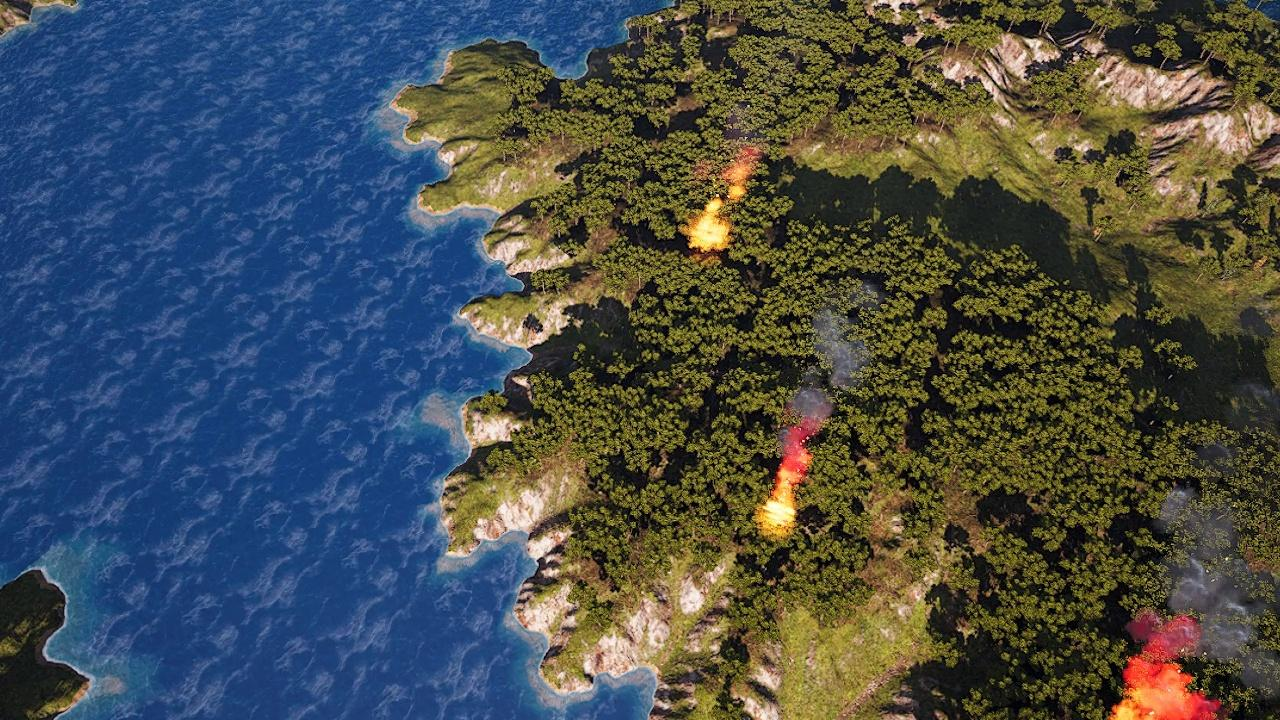fire: (761, 463, 802, 527), (689, 207, 730, 251), (722, 149, 752, 201)
smoke: (1108, 376, 1278, 720), (772, 290, 879, 485)
